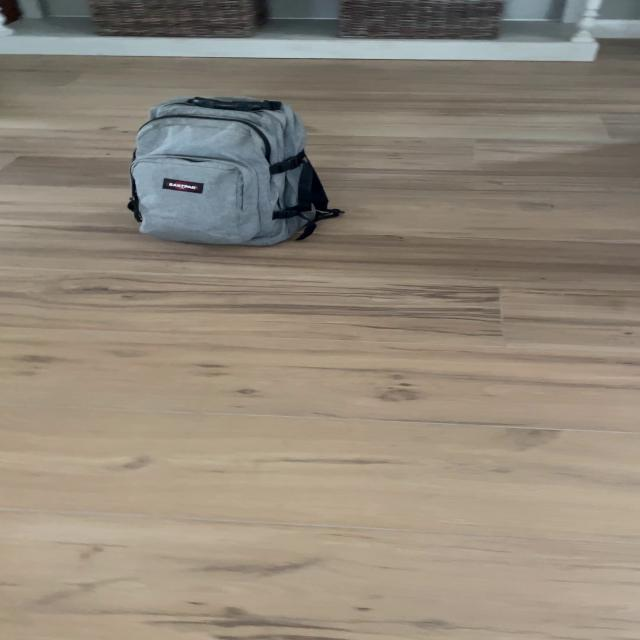backpack: (116, 86, 340, 252)
